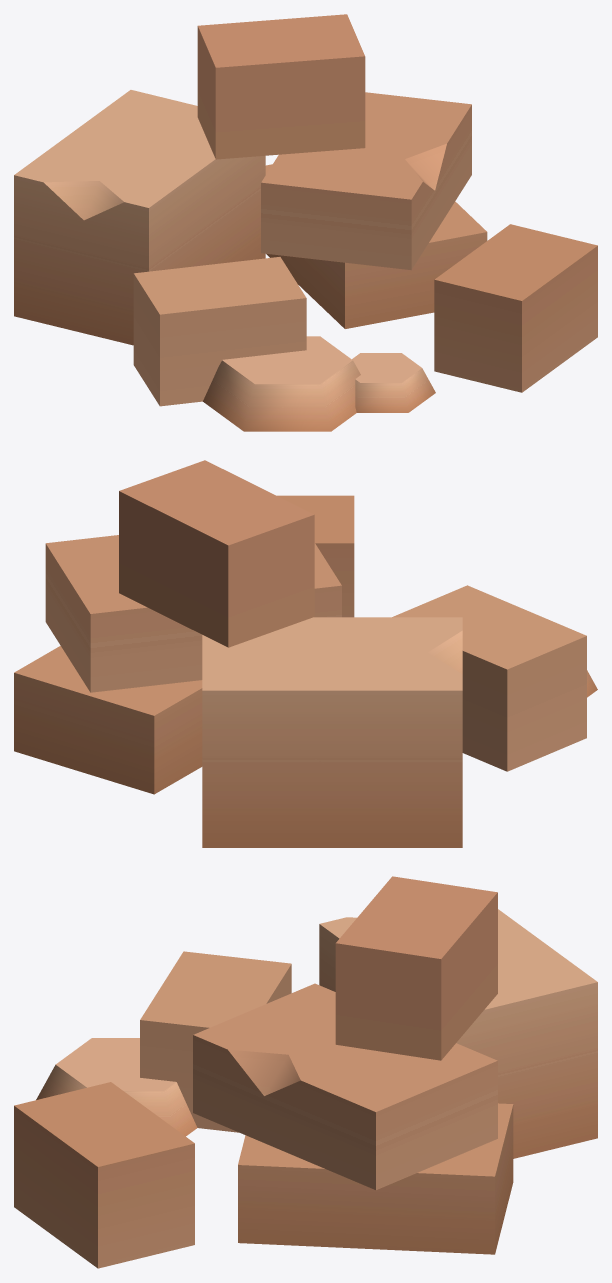
Rendered from bricks.glb.
3 views of the same model, one above another, from view 1: azimuth 30°, elevation 25°; view 2: azimuth 150°, elevation 25°; view 3: azimuth 270°, elevation 25° (orthographic). The views are drawn at different scales.
Parts seen in each view (by area): view 1: bricks; view 2: bricks; view 3: bricks.
Part boxes in pixels (x1,y1,x2,y2): bricks: [14, 14, 597, 431]; bricks: [14, 460, 597, 847]; bricks: [14, 876, 597, 1268].
Size of the model in its own units: 0.772 by 0.4124 by 0.8469.
1 material, 1 textured.
